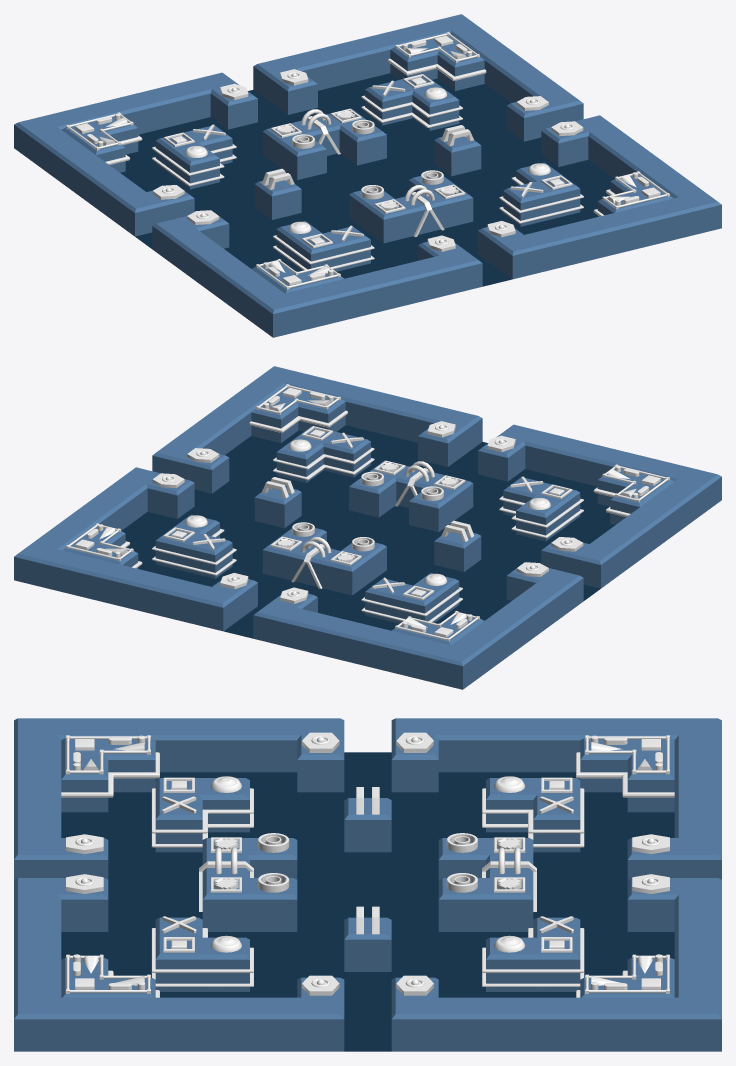
3 renders of one model, top to bottom at view 1: azimuth 30°, elevation 25°; view 2: azimuth 150°, elevation 25°; view 3: azimuth 270°, elevation 25°, orthographic. The views are drawn at different scales.
Visible parts, largest first — view 1: pPlane2, Differentiations4; view 2: pPlane2, Differentiations4; view 3: pPlane2, Differentiations4.
Part boxes in pixels (x1,y1,x2,y2): pPlane2: (14,14,721,337); Differentiations4: (66,32,669,289); pPlane2: (14,366,721,689); Differentiations4: (66,384,669,641); pPlane2: (14,718,721,1051); Differentiations4: (61,732,674,997).
Size of the model in its own units: 4500 by 371 by 4500.
